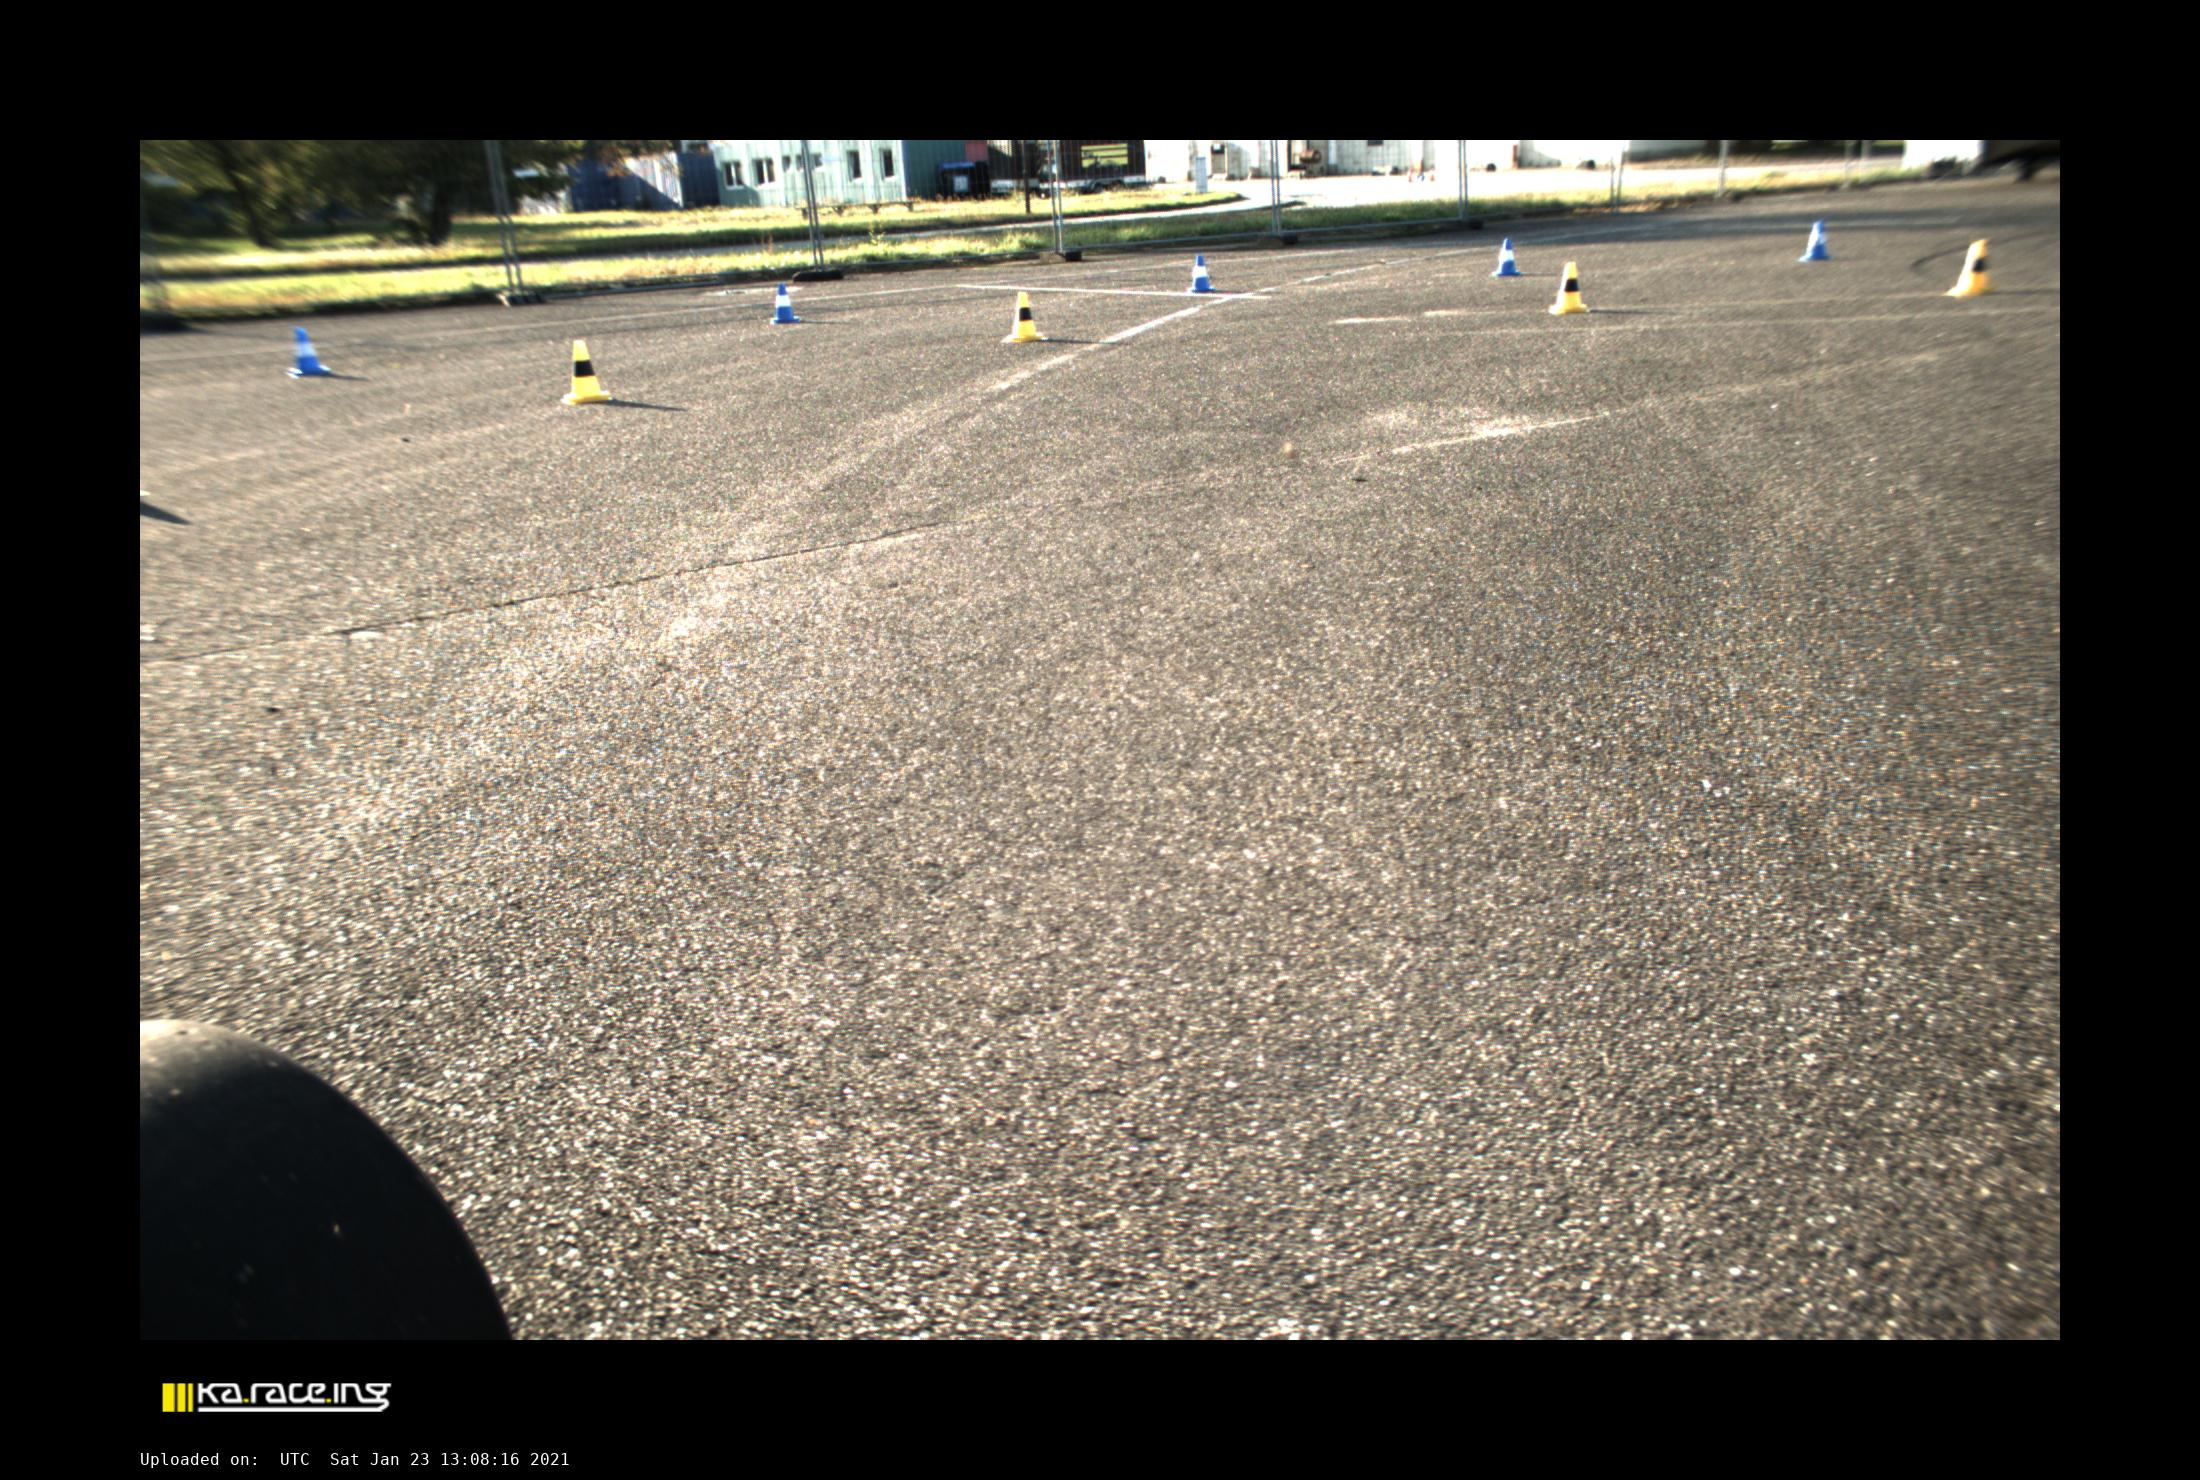blue_cone: (283, 325, 332, 379), (767, 281, 803, 324), (1798, 219, 1832, 263), (1489, 236, 1523, 278), (1186, 253, 1217, 294)
yellow_cone: (559, 338, 613, 406), (1945, 237, 1994, 299), (1546, 260, 1591, 316), (1000, 290, 1047, 343)
